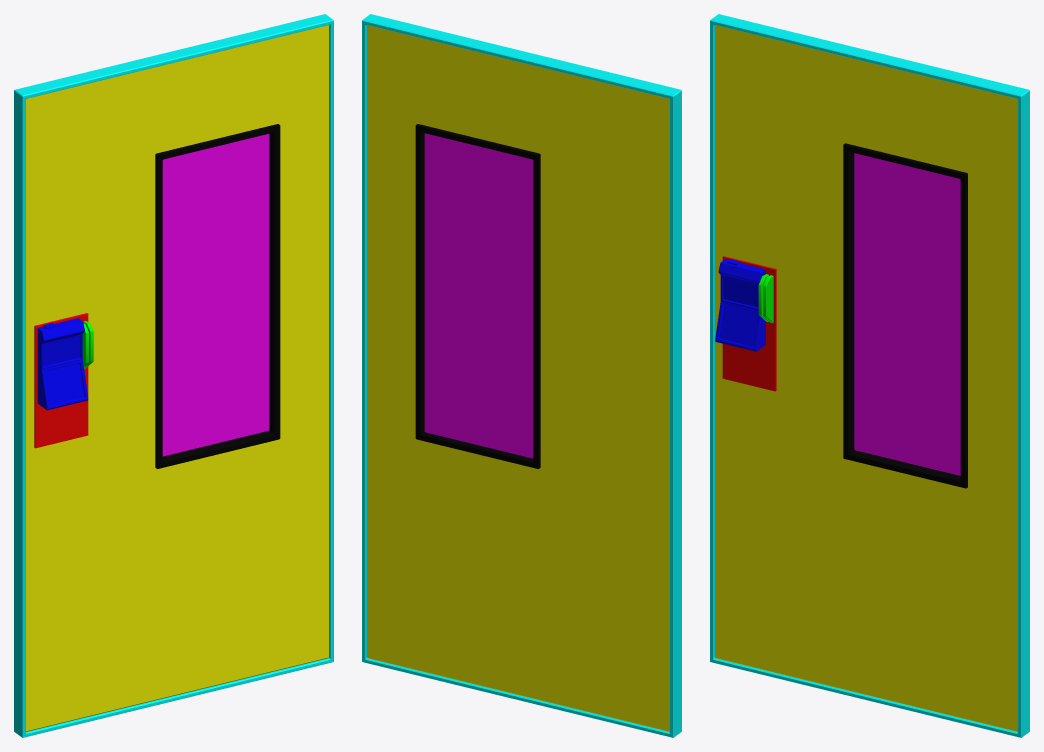
The model's file is scienceLabDoor.fbx.
The picture shows the model from 3 angles, left to right: view 1: azimuth 30°, elevation 25°; view 2: azimuth 150°, elevation 25°; view 3: azimuth 330°, elevation 25°; orthographic projection.
Parts seen in each view (by area): view 1: Cube, Cube.002, Cube.005, Cube.001, Cube.003, Plane; view 2: Cube, Cube.002, Cube.005, Cube.001; view 3: Cube, Cube.002, Cube.005, Cube.001, Cube.003, Plane, Cube.004.
Boxes of the visible parts, left/top/right/bottom form: Cube: left=26, top=25, right=328, bottom=731; Cube.002: left=162, top=134, right=269, bottom=456; Cube.005: left=14, top=14, right=333, bottom=737; Cube.001: left=155, top=124, right=280, bottom=468; Cube.003: left=37, top=318, right=88, bottom=410; Plane: left=34, top=313, right=88, bottom=448; Cube: left=367, top=25, right=669, bottom=731; Cube.002: left=424, top=133, right=533, bottom=458; Cube.005: left=362, top=14, right=681, bottom=737; Cube.001: left=415, top=124, right=540, bottom=468; Cube: left=715, top=25, right=1017, bottom=731; Cube.002: left=854, top=153, right=960, bottom=475; Cube.005: left=710, top=14, right=1029, bottom=737; Cube.001: left=843, top=143, right=967, bottom=488; Cube.003: left=715, top=259, right=765, bottom=351; Plane: left=722, top=256, right=776, bottom=391; Cube.004: left=758, top=274, right=773, bottom=323.
Size of the model in its own units: 108 by 213 by 11.66.
